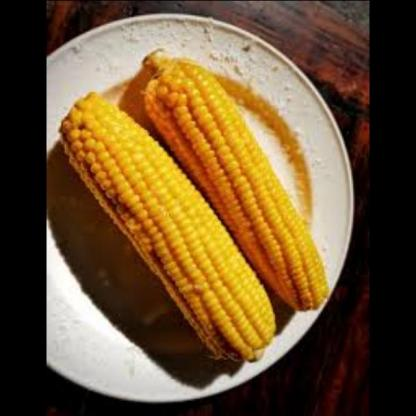corn: (59, 88, 274, 366), (143, 48, 337, 313)
